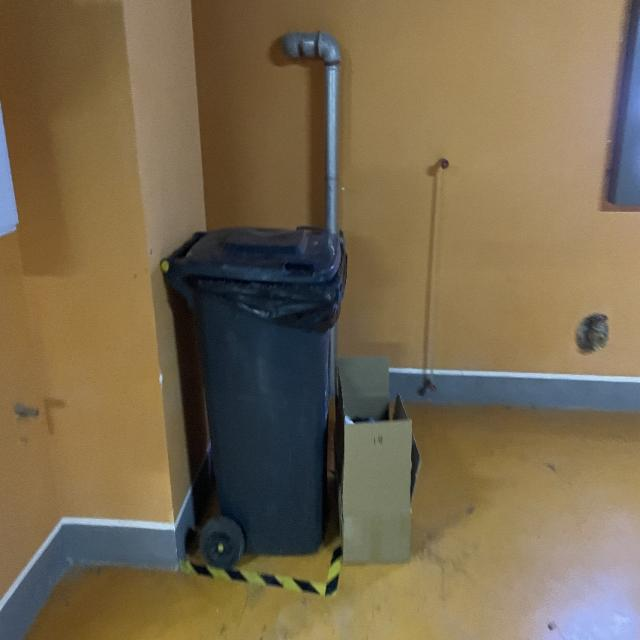garbage: (335, 353, 421, 561)
garbage_bin: (158, 224, 344, 554)
